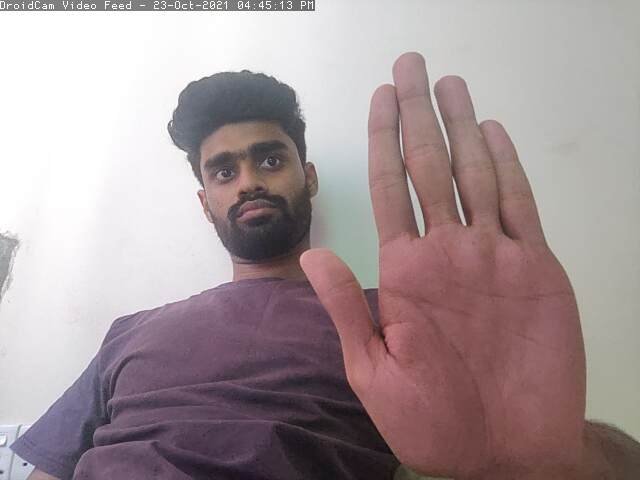Stop: (301, 49, 590, 473)
